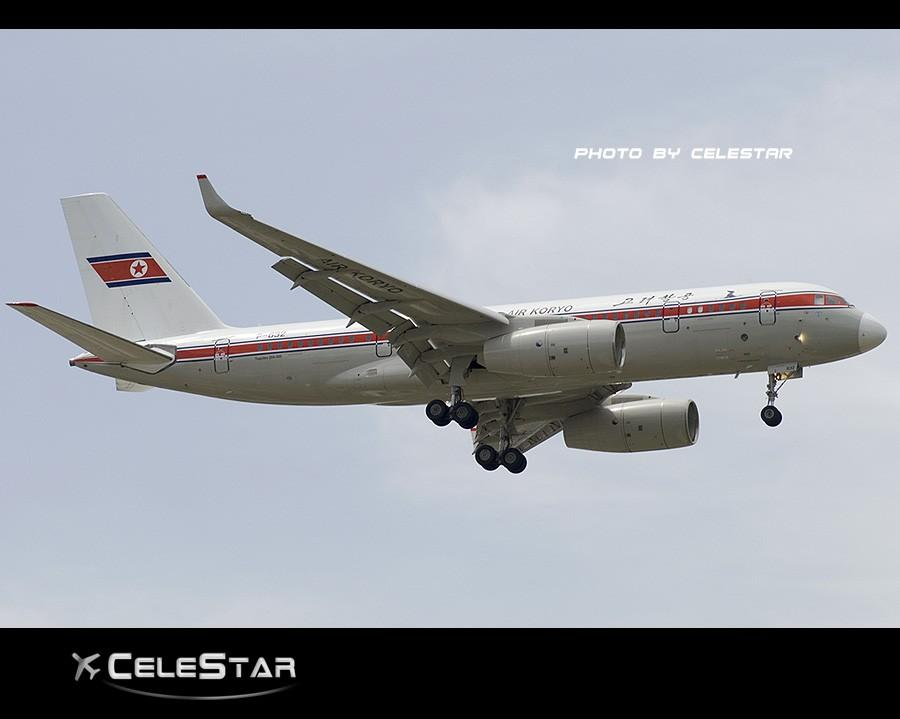airplane: (2, 169, 896, 471)
